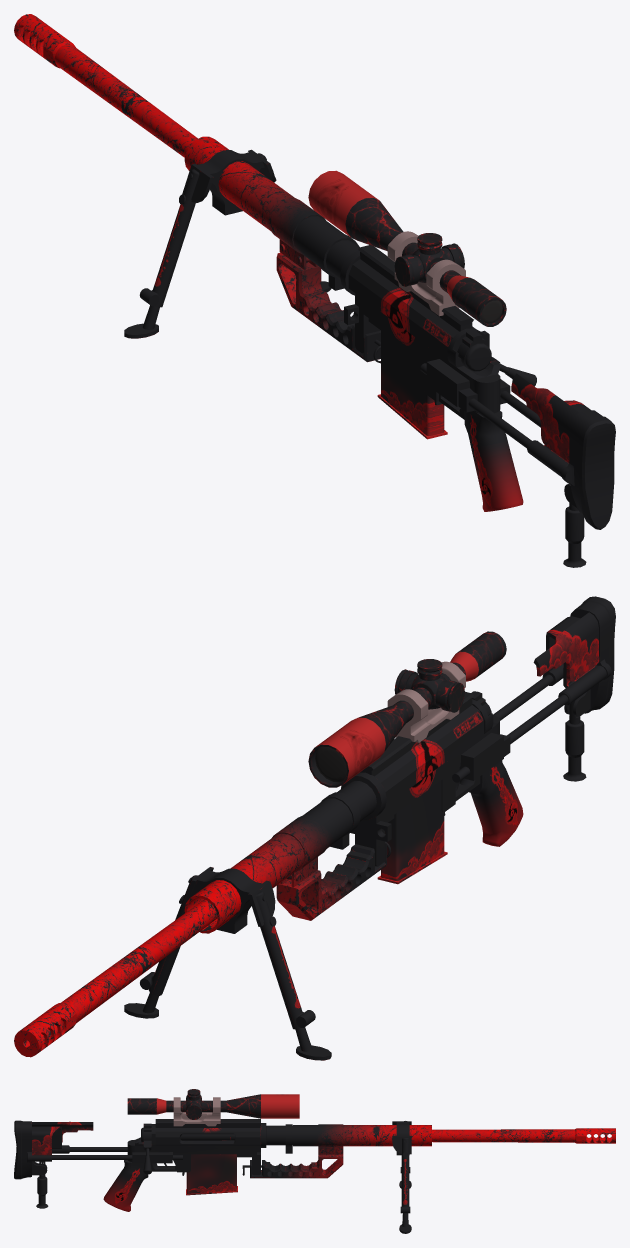
Rendered from mangekyofinished.obj.
The picture shows the model from 3 angles, top to bottom: view 1: azimuth 30°, elevation 25°; view 2: azimuth 150°, elevation 25°; view 3: azimuth 270°, elevation 25°; orthographic projection. The views are drawn at different scales.
Visible parts, largest first — view 1: mangekkeyousharringan; view 2: mangekkeyousharringan; view 3: mangekkeyousharringan.
Boxes of the visible parts, x1,y1,x2,y2 form: mangekkeyousharringan: (14, 14, 615, 567); mangekkeyousharringan: (14, 596, 615, 1060); mangekkeyousharringan: (14, 1089, 615, 1233).
Bounding box in the file's own units: 1.87 × 1.97 × 9.04.
3 materials, 3 textured.
